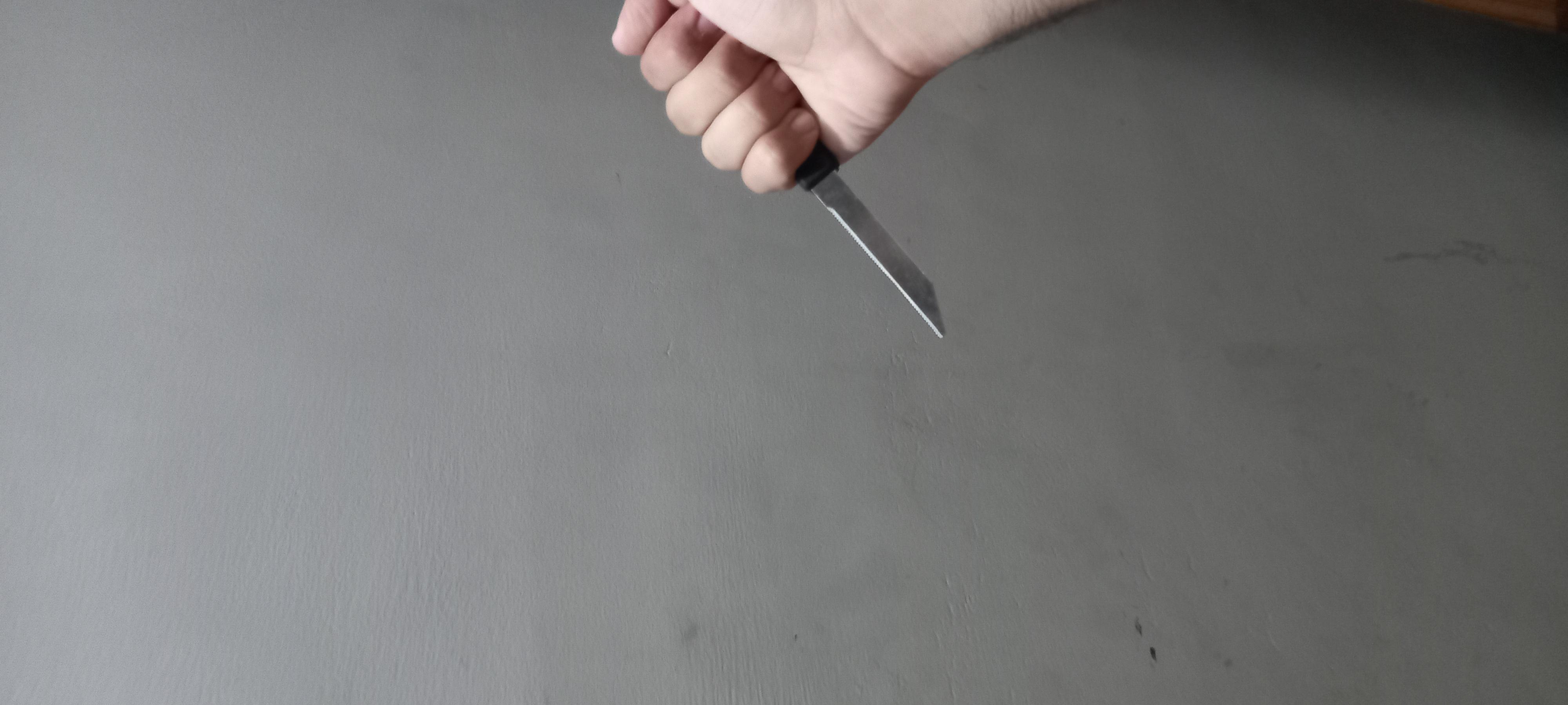knives: (792, 326, 1346, 430)
